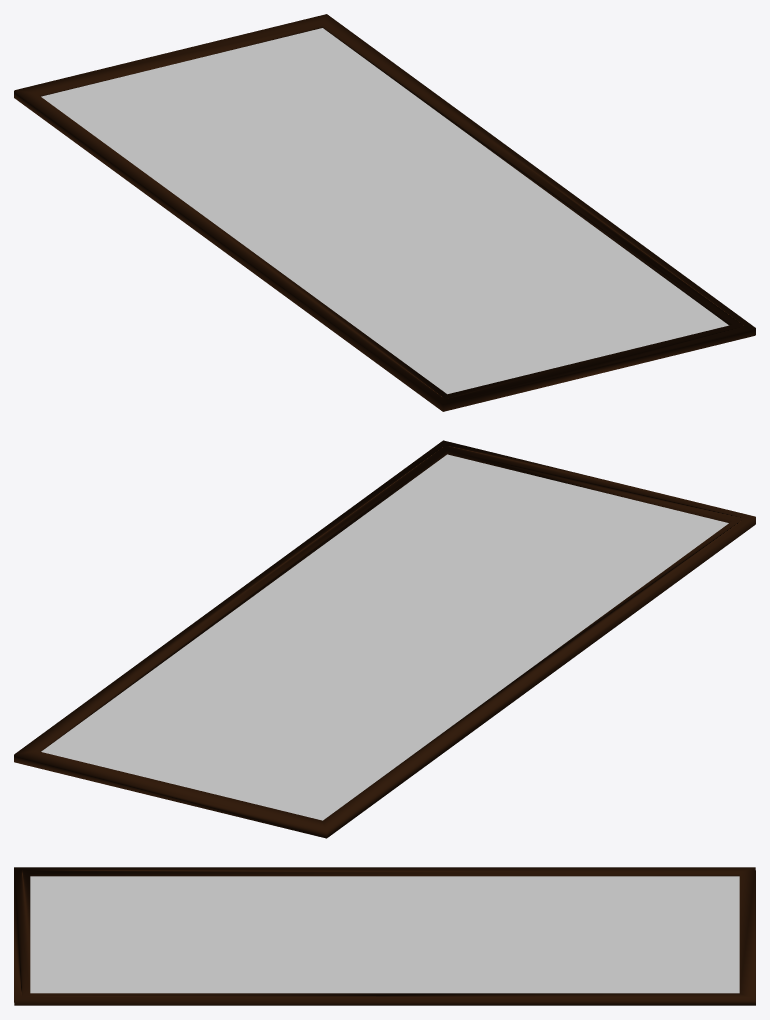
File: tableau1.fbx
3 views of the same model, one above another, from view 1: azimuth 30°, elevation 25°; view 2: azimuth 150°, elevation 25°; view 3: azimuth 270°, elevation 25° (orthographic). The views are drawn at different scales.
Parts seen in each view (by area): view 1: tableau1; view 2: tableau1; view 3: tableau1.
Part boxes in pixels (x1,y1,x2,y2): tableau1: (14, 14, 755, 411); tableau1: (14, 440, 755, 838); tableau1: (14, 867, 755, 1005).
Size of the model in its own units: 2 by 0.0471 by 4.75.
